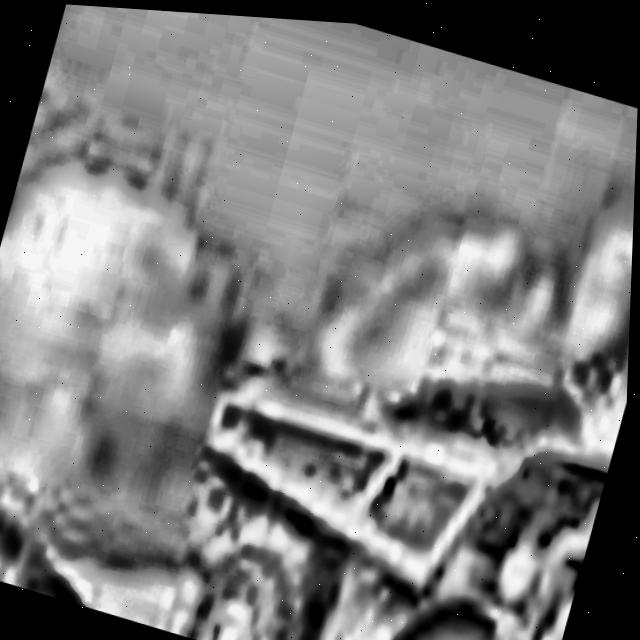dump_truck: (153, 258, 633, 640)
